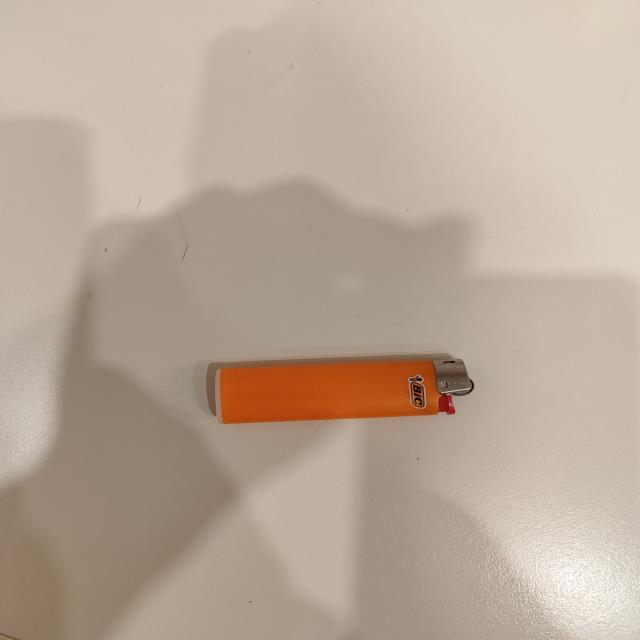lighter: (207, 354, 473, 424)
